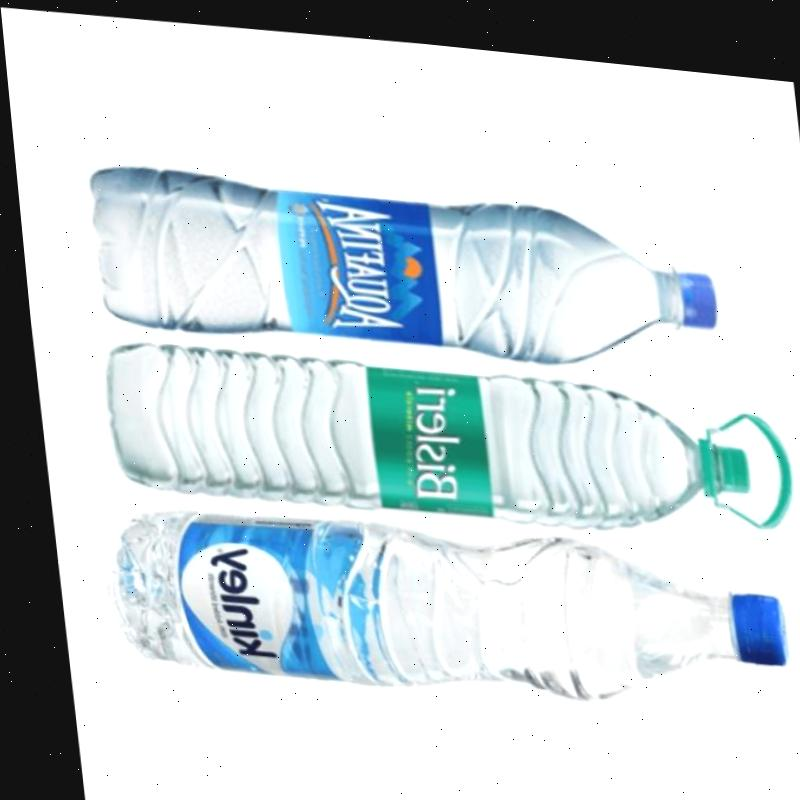botella: (90, 482, 781, 717), (79, 152, 719, 376), (92, 324, 748, 539)
